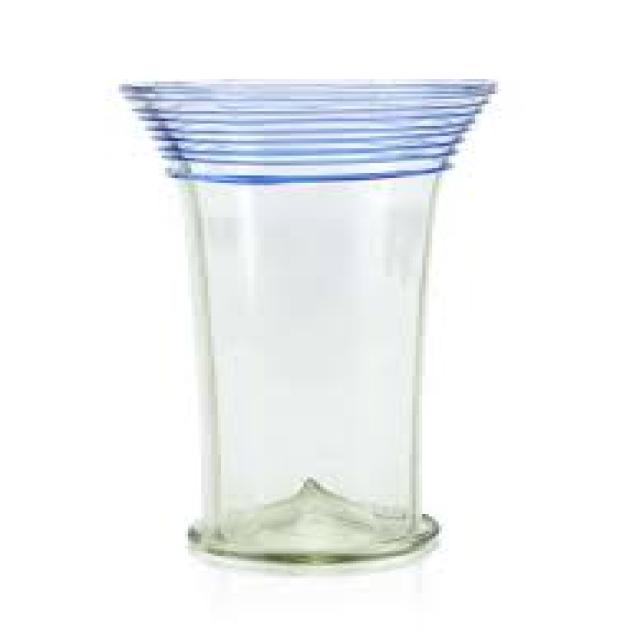glass: (122, 79, 492, 571)
